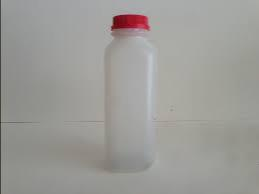Plastic: (102, 13, 157, 176)
